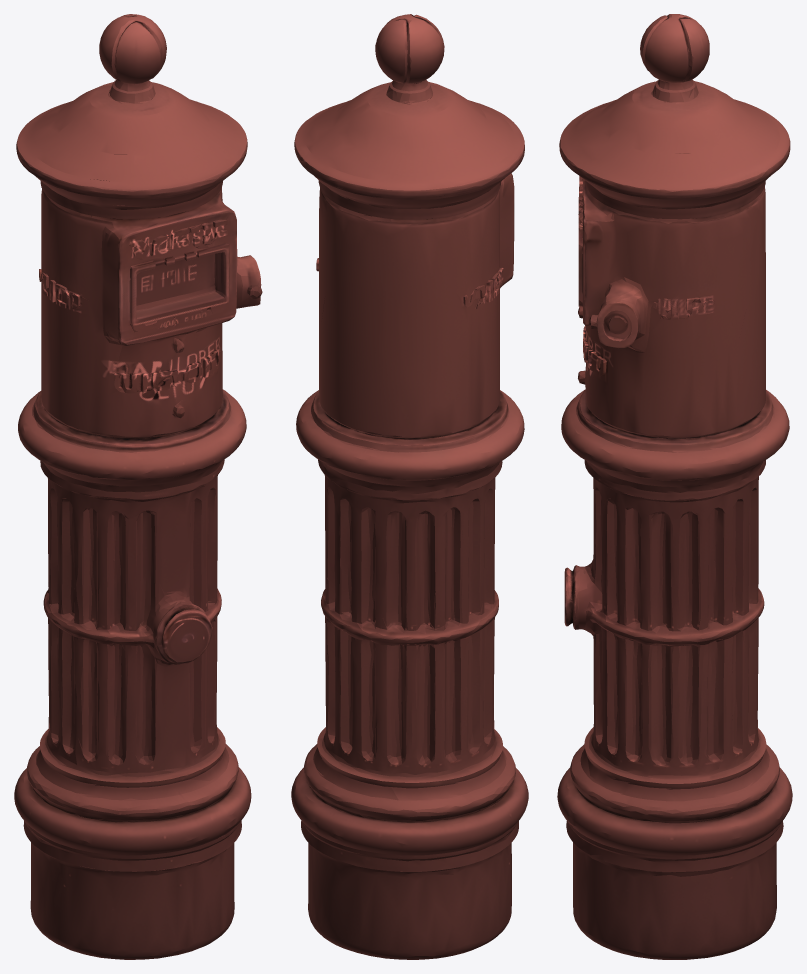
Rendered from prop_street_fire_alarm_box_lod0.glb.
3 renders of one model, left to right at view 1: azimuth 30°, elevation 25°; view 2: azimuth 150°, elevation 25°; view 3: azimuth 270°, elevation 25°, orthographic.
Parts seen in each view (by area): view 1: model; view 2: model; view 3: model.
Boxes of the visible parts, x1,y1,x2,y2 form: model: (14,14,262,959); model: (291,14,528,959); model: (557,14,792,959).
Size of the model in its own units: 0.4308 by 1.81 by 0.426.
1 material, 1 textured.
